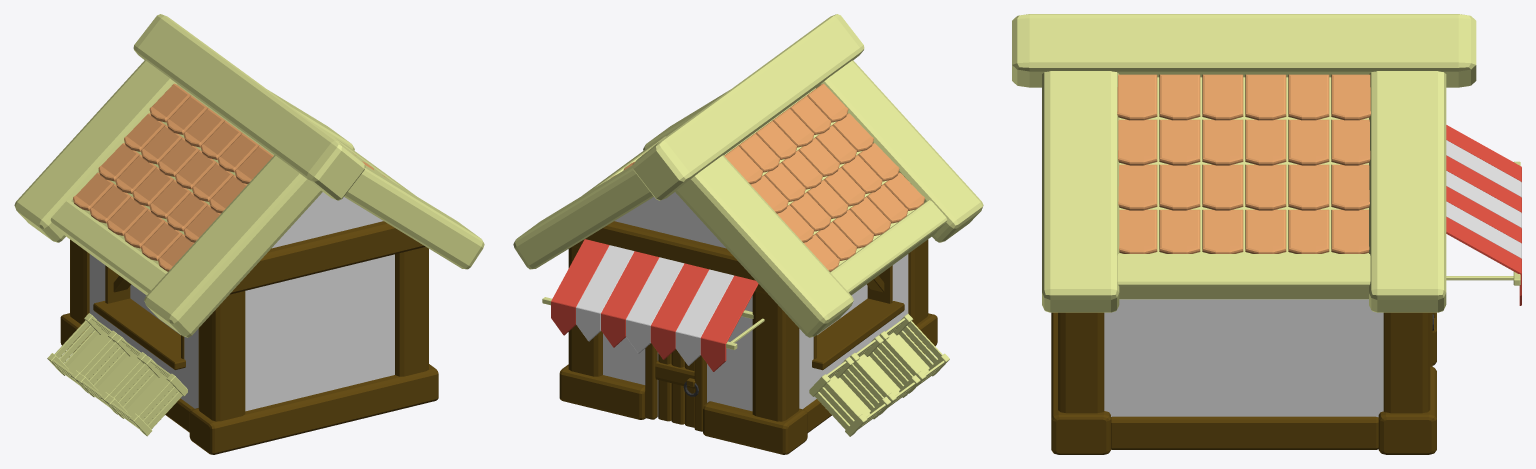
Rendered from farm shop flat.glb.
3 renders of one model, left to right at view 1: azimuth 30°, elevation 25°; view 2: azimuth 150°, elevation 25°; view 3: azimuth 270°, elevation 25°, orthographic. The views are drawn at different scales.
Visible parts, largest first — view 1: Plane; view 2: Plane; view 3: Plane.
Boxes of the visible parts, x1=… form: Plane: x1=14, y1=14, x2=484, y2=454; Plane: x1=513, y1=14, x2=983, y2=454; Plane: x1=1012, y1=14, x2=1521, y2=454.
Size of the model in its own units: 6.06 by 5.4 by 6.71.
